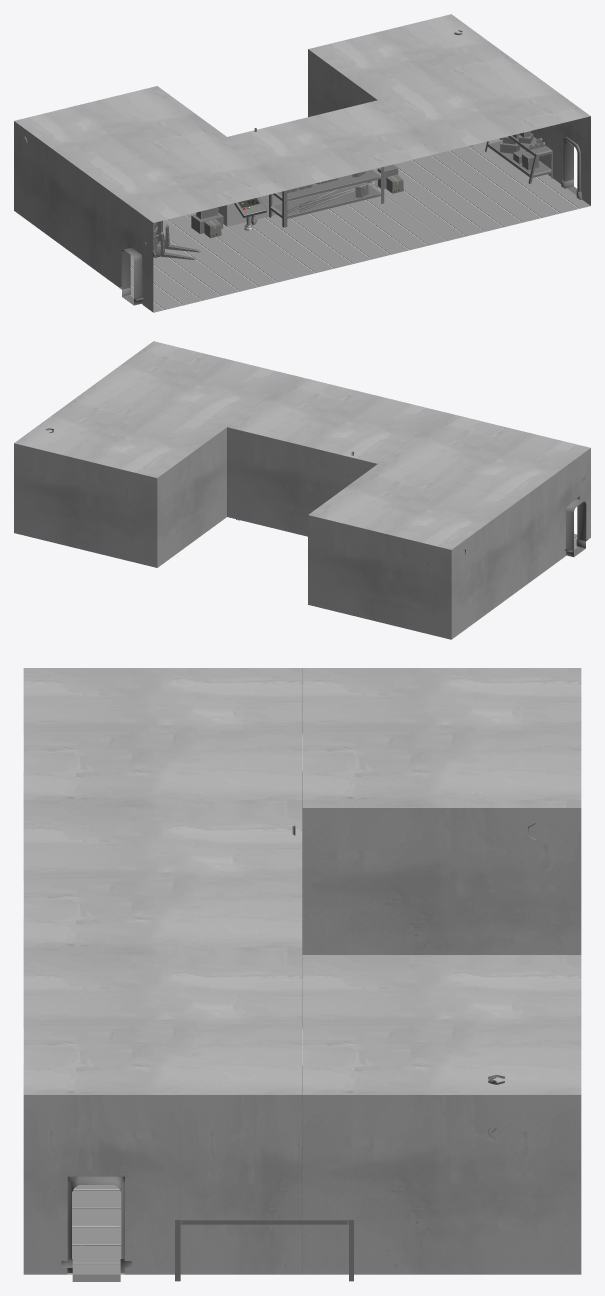
Rendered from MHS_Storage_L1_R3_optimized.fbx.
3 views of the same model, one above another, from view 1: azimuth 30°, elevation 25°; view 2: azimuth 150°, elevation 25°; view 3: azimuth 270°, elevation 25° (orthographic). The views are drawn at different scales.
Visible parts, largest first — view 1: lightmap0, MSH_Storage_light; view 2: lightmap0, MSH_Storage_light; view 3: lightmap0, MSH_Storage_light.
Part boxes in pixels (<box>): lightmap0: <box>14,14,590,312</box>; MSH_Storage_light: <box>121,141,577,305</box>; lightmap0: <box>14,341,590,639</box>; MSH_Storage_light: <box>565,499,586,556</box>; lightmap0: <box>23,668,581,1281</box>; MSH_Storage_light: <box>72,1176,121,1281</box>.
Size of the model in its own units: 30.91 by 6.33 by 16.51.
4 materials, 4 textured.
